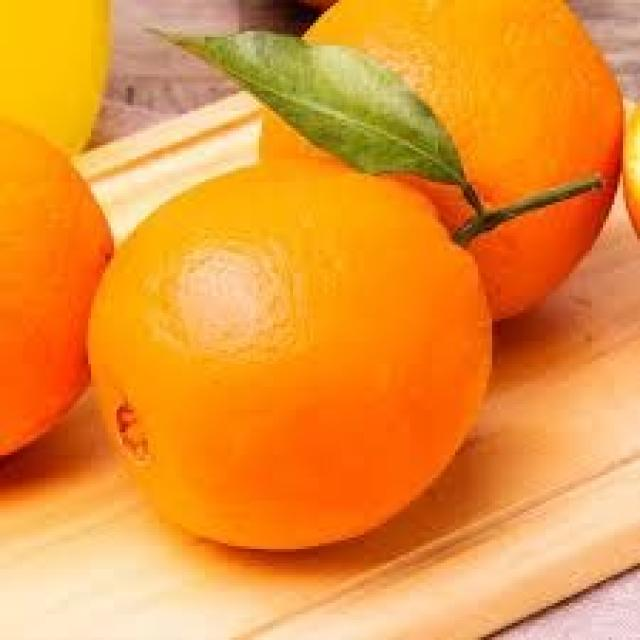Good_Orange: (85, 162, 495, 558)
